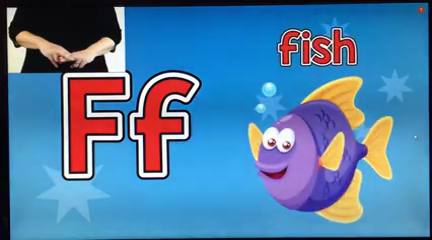F: (42, 36, 96, 69)
